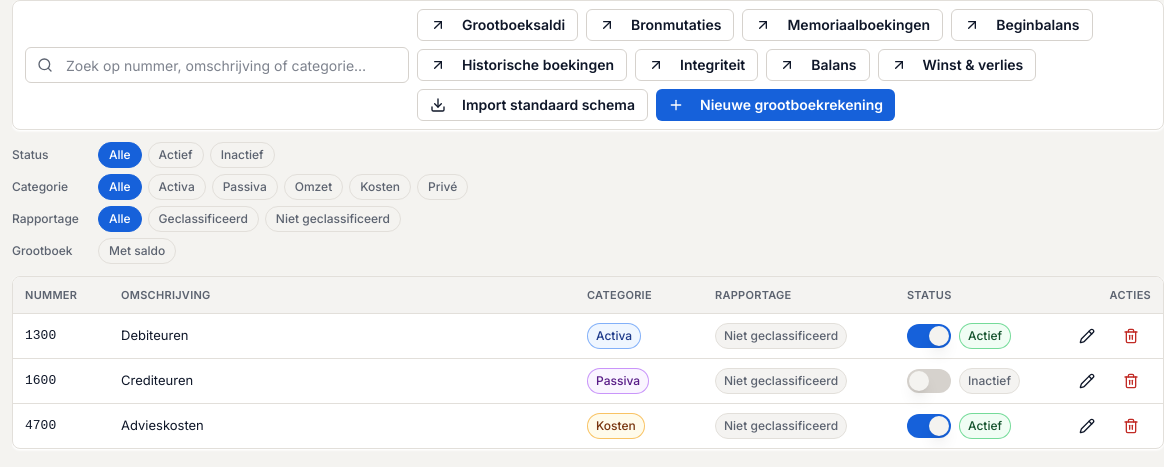
Test: Rekeningschema — zoeken en filters › filtert op statusfilter Inactief
This screenshot has width=1164, height=467.
Click the button "Inactief". click: (242,155)
box: top-left (210, 142), bottom-right (275, 168)
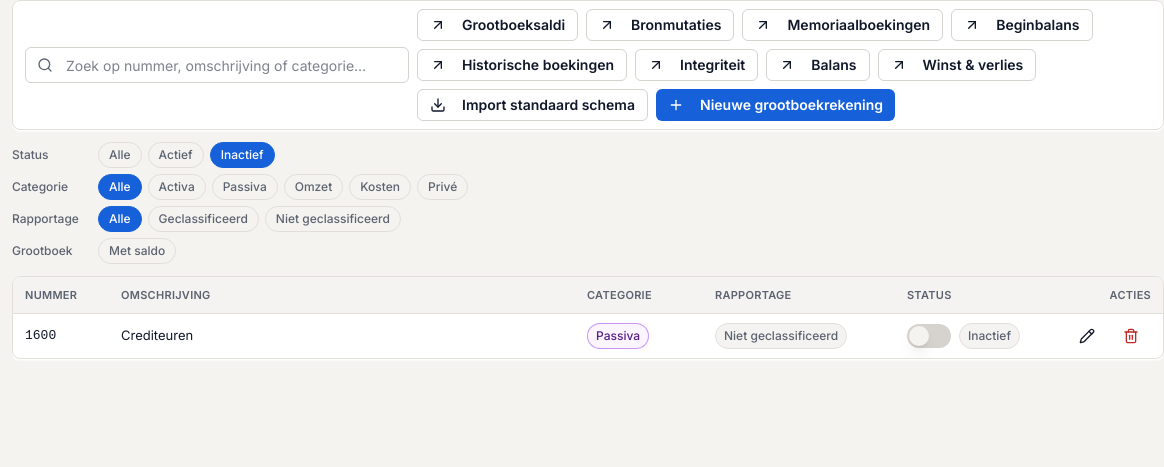
Expected: the text "Crediteuren" is shown, top-left (109, 313), bottom-right (575, 358)
Now the text "Debiteuren" is gone
Now the text "Advieskosten" is gone
